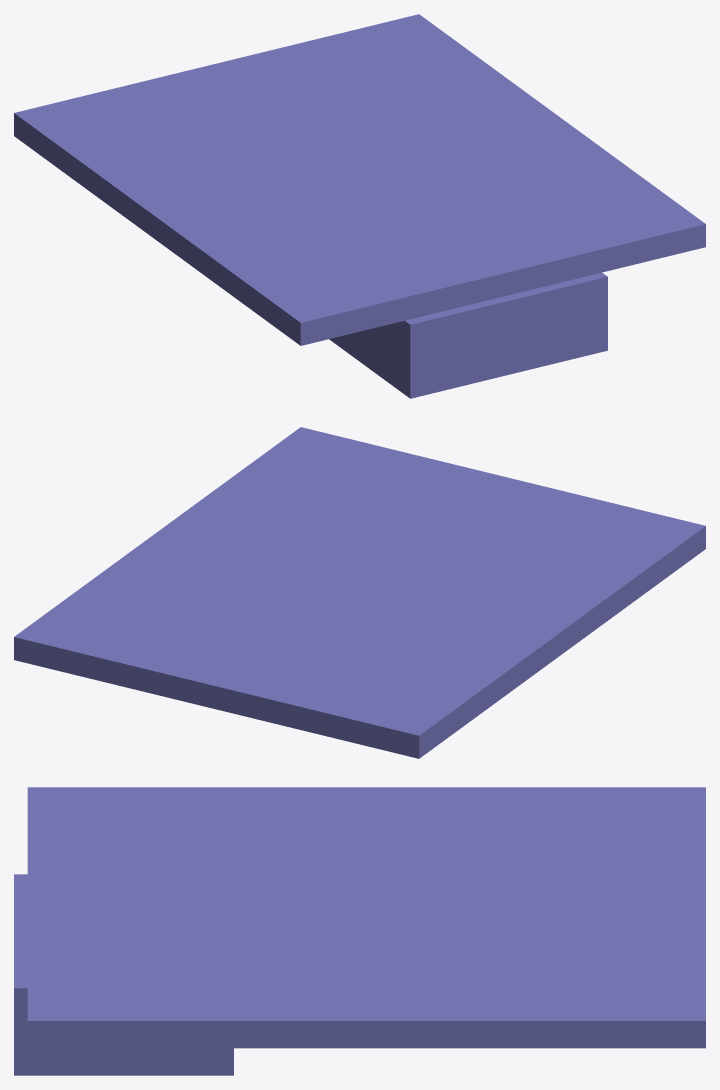
The model's file is supermini.glb.
The picture shows the model from 3 angles, top to bottom: view 1: azimuth 30°, elevation 25°; view 2: azimuth 150°, elevation 25°; view 3: azimuth 270°, elevation 25°; orthographic projection. The views are drawn at different scales.
Parts seen in each view (by area): view 1: =>[0:1:1:3]; view 2: =>[0:1:1:3]; view 3: =>[0:1:1:3].
Boxes of the visible parts, left/top/right/bottom form: =>[0:1:1:3]: left=14, top=14, right=705, bottom=398; =>[0:1:1:3]: left=14, top=427, right=705, bottom=758; =>[0:1:1:3]: left=14, top=787, right=705, bottom=1075.
Size of the model in its own units: 0.0184 by 0.0042 by 0.023.
